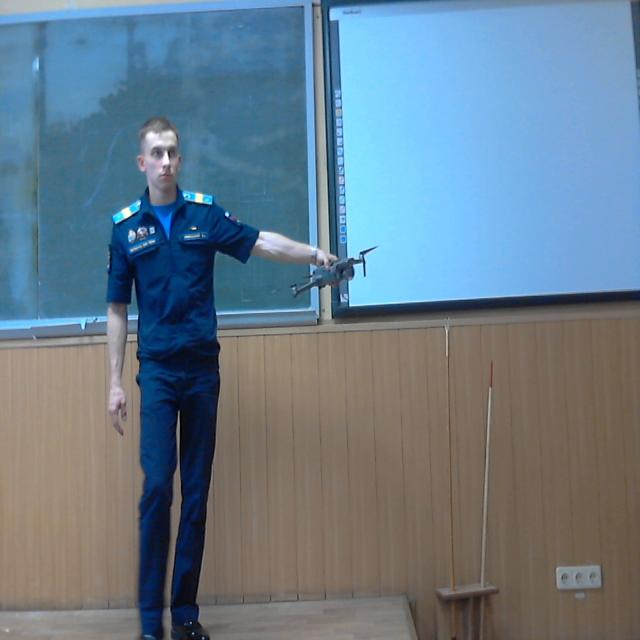drone: (281, 243, 377, 298)
